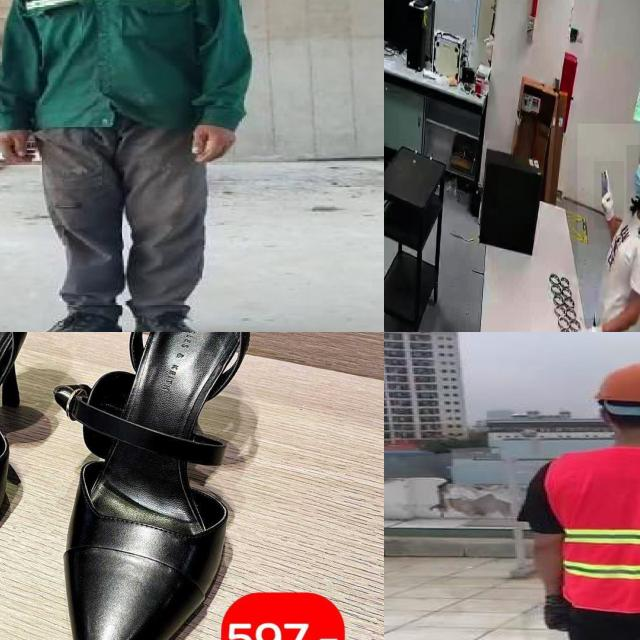Sandals: (17, 332, 296, 640)
face_mask: (626, 144, 640, 213)
hand_glove: (594, 161, 624, 229), (542, 592, 572, 632), (579, 318, 607, 332)
hand_noglove: (186, 116, 244, 169), (0, 123, 40, 170)
head_helmet: (593, 359, 640, 406)
person: (0, 0, 253, 332), (520, 355, 640, 640), (577, 124, 640, 332)
shoes: (125, 297, 219, 332), (25, 304, 128, 332)
vest: (543, 448, 640, 610)
